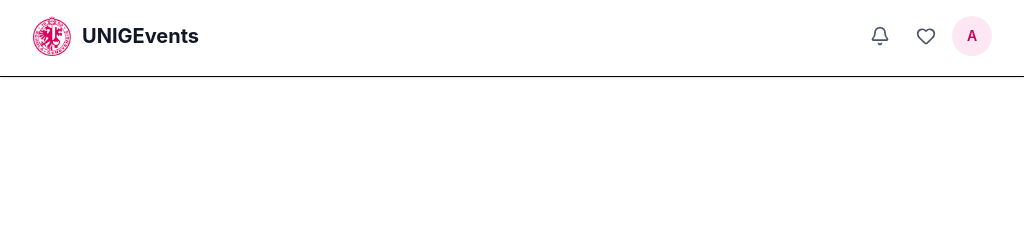
Navbar › closes user menu when clicking "Mon Profil" link
Click the button named "Menu utilisateur" at (972, 36), box x1=952 y1=16 x2=992 y2=56
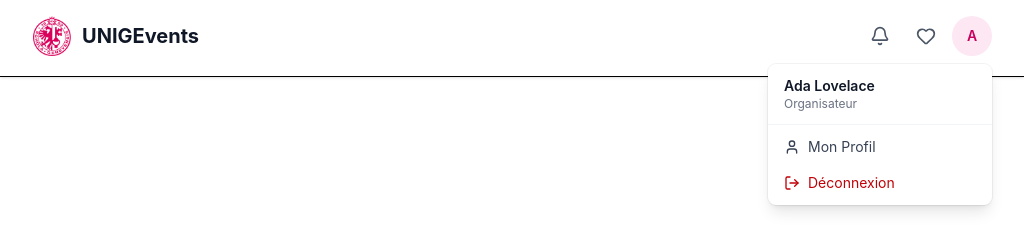
Check: the link "Mon Profil" is shown
Click the link "Mon Profil" at (830, 146), box x1=784 y1=138 x2=876 y2=155
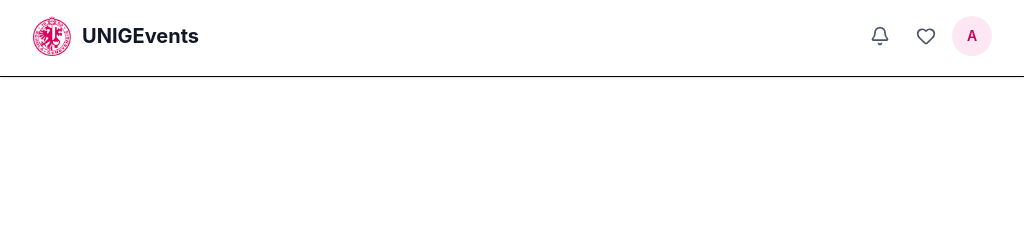
Check: the link "Mon Profil" is gone
